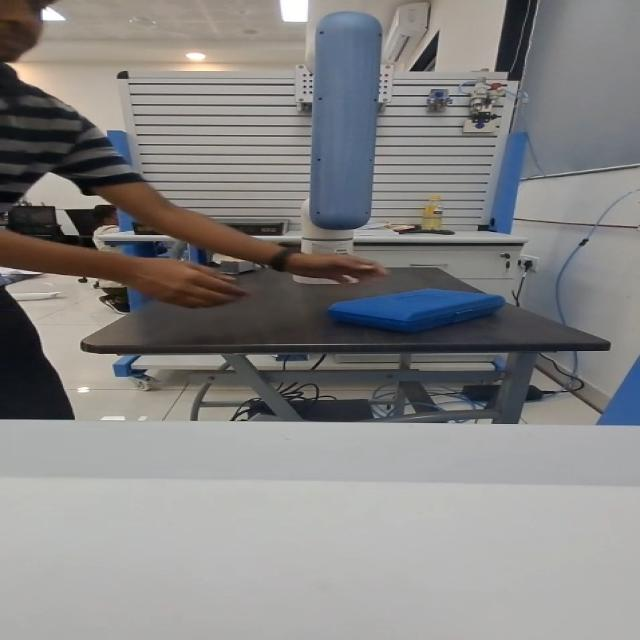top-surface: (363, 290, 469, 311)
